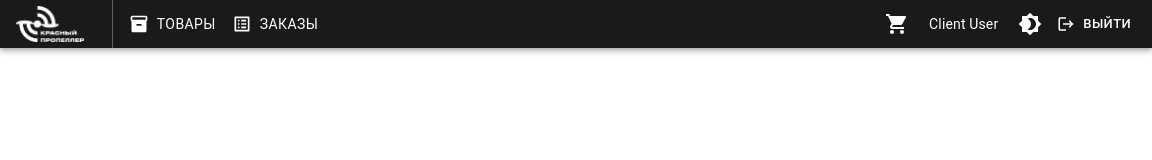
Header › shows manager tooltip on user name hover
Hover over the text "Client User" at [964, 24], box [929,14,998,34]
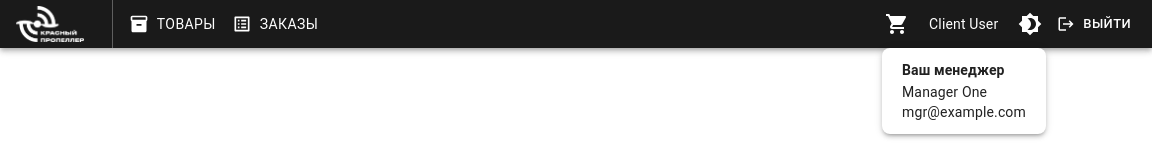
Check: the heading "Ваш менеджер" is shown, box [902,62,1004,78]
Check: the text "Manager One" is shown, box [902,84,987,100]
Check: the text "mgr@example.com" is shown, box [902,102,1026,122]
